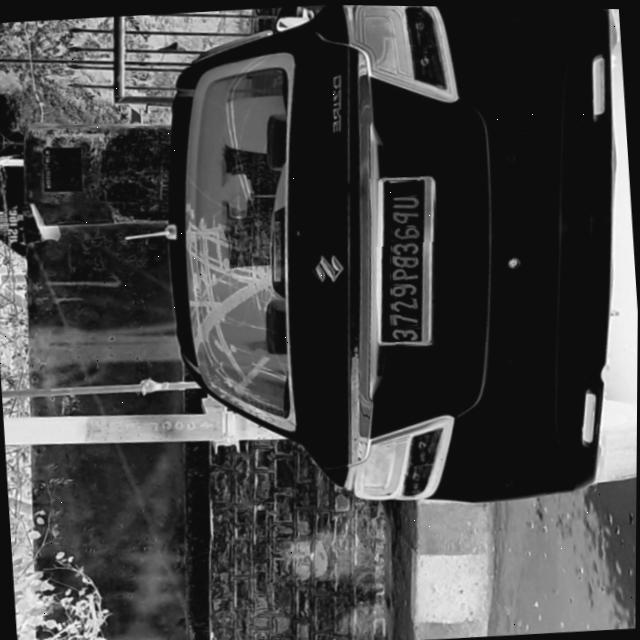2: (392, 296, 418, 310)
3: (389, 323, 422, 340), (392, 236, 422, 253)
6: (391, 282, 417, 296)
7: (391, 309, 420, 324)
9: (393, 222, 420, 237)
B: (390, 251, 420, 267)
IND: (390, 177, 419, 195)
Indian_registered: (379, 174, 434, 342)
P: (389, 207, 420, 222), (390, 265, 419, 280)
U: (390, 191, 421, 209)
